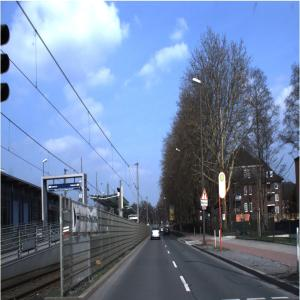DANGER: (202, 189, 210, 202)
